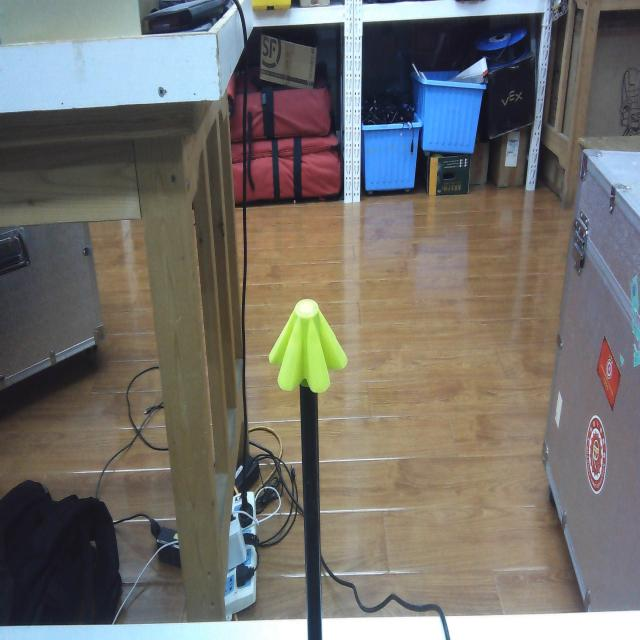Yellow-Stake-Head: (268, 298, 348, 394)
